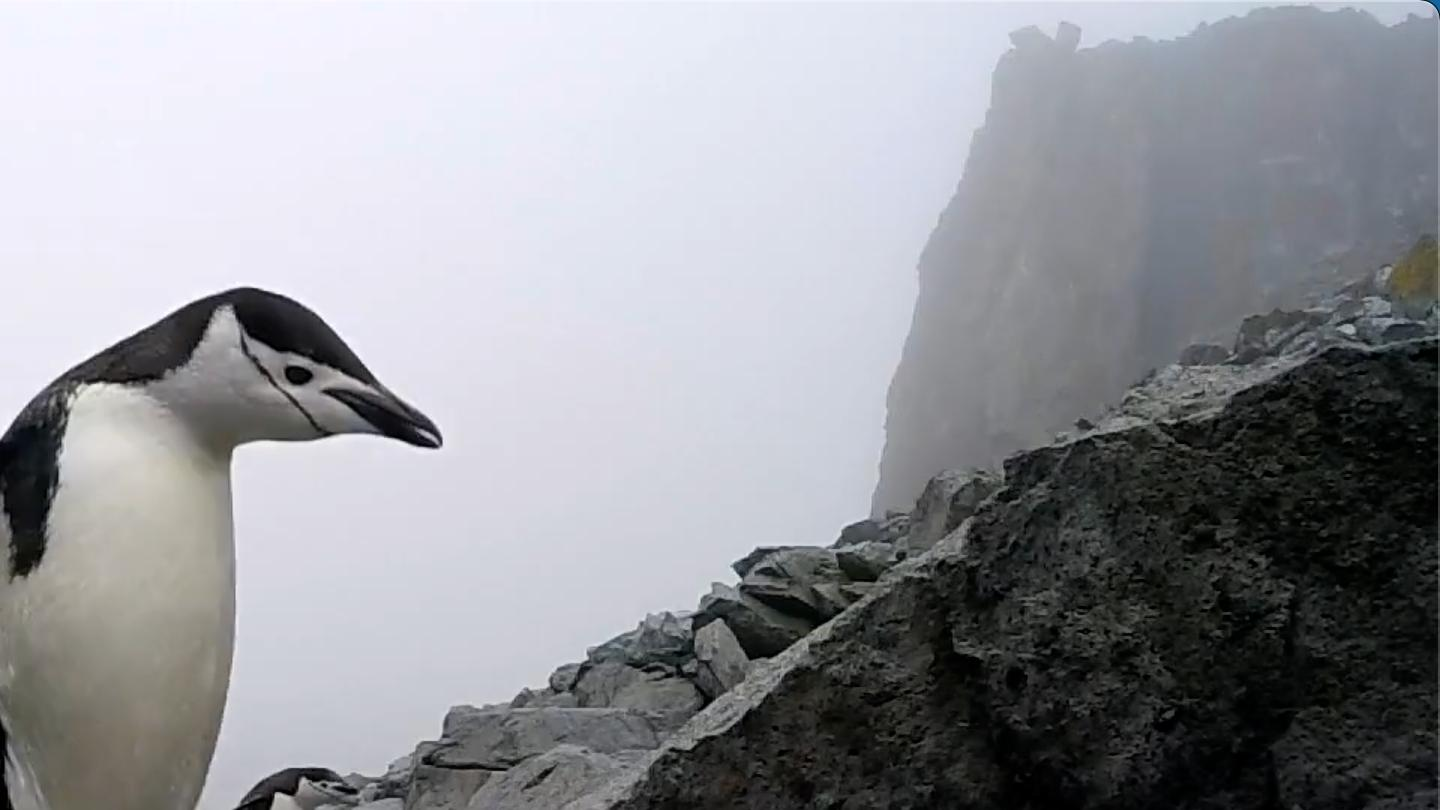Chinstrap Penguin: (0, 271, 475, 810), (211, 758, 368, 810)
